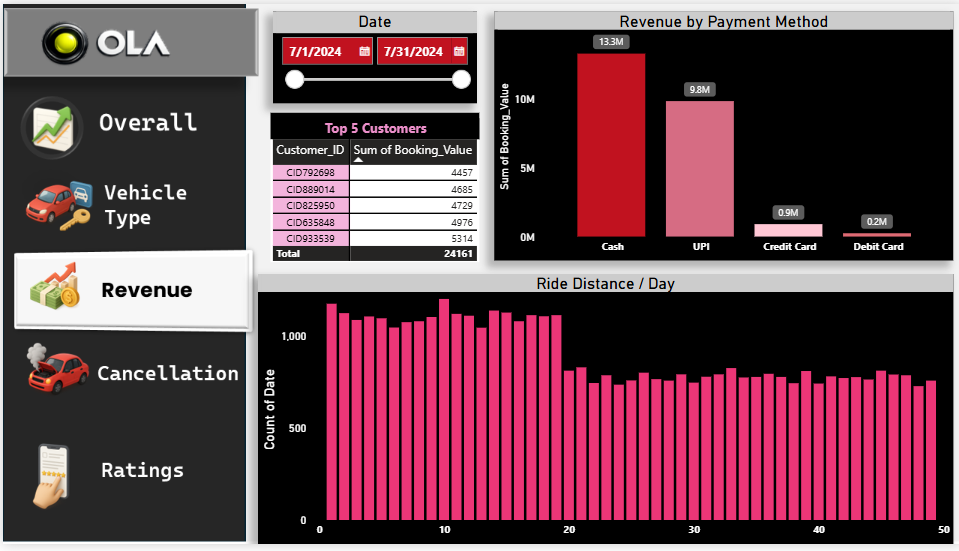

This screenshot's page, from the dashboard's own definition file:
{"tool":"powerbi","page":{"name":"Revenue","canvas":[1280,720],"ordinal":2},"visuals":[{"type":"actionButton","box":[0,225,325.2,97.4],"z":0},{"type":"actionButton","box":[0,444.6,325.2,97.4],"z":1000},{"type":"actionButton","box":[0,566.7,325.2,116.6],"z":2000},{"type":"actionButton","box":[0,115.3,325.2,97.4],"z":3000},{"type":"columnChart","title":"Revenue by Payment Method","fields":{"Y":["Sum(Data.Booking_Value)"],"Category":["Data.Payment_Method"]},"box":[654.5,9.6,612,332.1],"z":4000},{"type":"columnChart","title":"Ride Distance / Day","fields":{"Category":["Data.Ride_Distance"],"Y":["CountNonNull(Data.Date)"]},"box":[340,360,927.1,360],"z":5000},{"type":"tableEx","title":"Top 5 Customers","fields":{"Values":["Data.Customer_ID","Sum(Data.Booking_Value)"]},"box":[356.8,145.5,278.6,199],"z":6000},{"type":"slicer","title":"Date","fields":{"Values":["Data.Date"]},"box":[359.5,9.6,271.7,122.1],"z":7000}]}

Visuals, with their boxes in screenshot pixels (x1, y1, x2, y2), scaled from the page's 1280x720 canvas onto the 959x551 screenshot:
actionButton: [0,172,244,247]
actionButton: [0,340,244,415]
actionButton: [0,434,244,523]
actionButton: [0,88,244,163]
"Revenue by Payment Method" columnChart: [490,7,949,261]
"Ride Distance / Day" columnChart: [255,276,949,550]
"Top 5 Customers" tableEx: [267,111,476,264]
"Date" slicer: [269,7,473,101]
